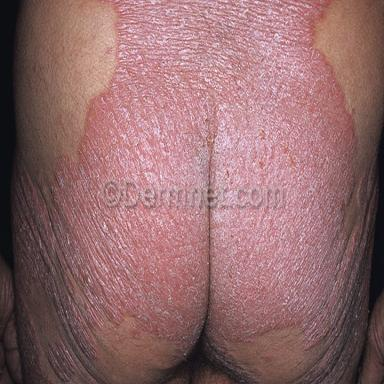Psoriasis: (13, 0, 368, 384), (47, 341, 75, 382)
